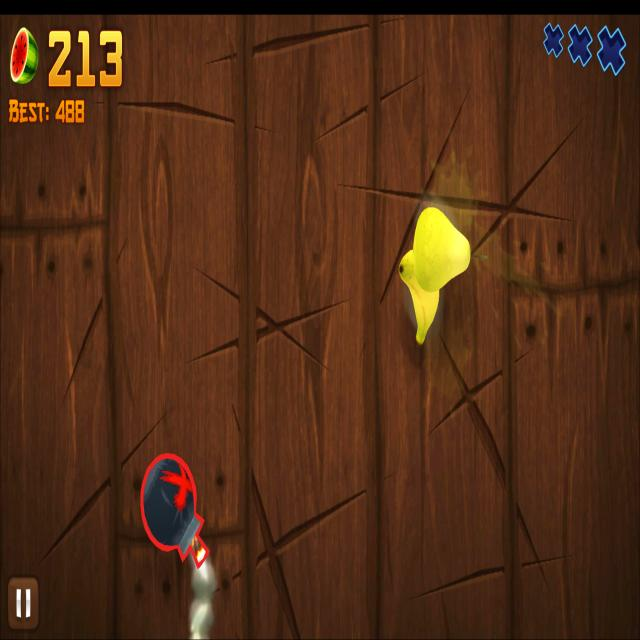fruit: (140, 452, 210, 570), (414, 206, 472, 292), (398, 247, 441, 347)
